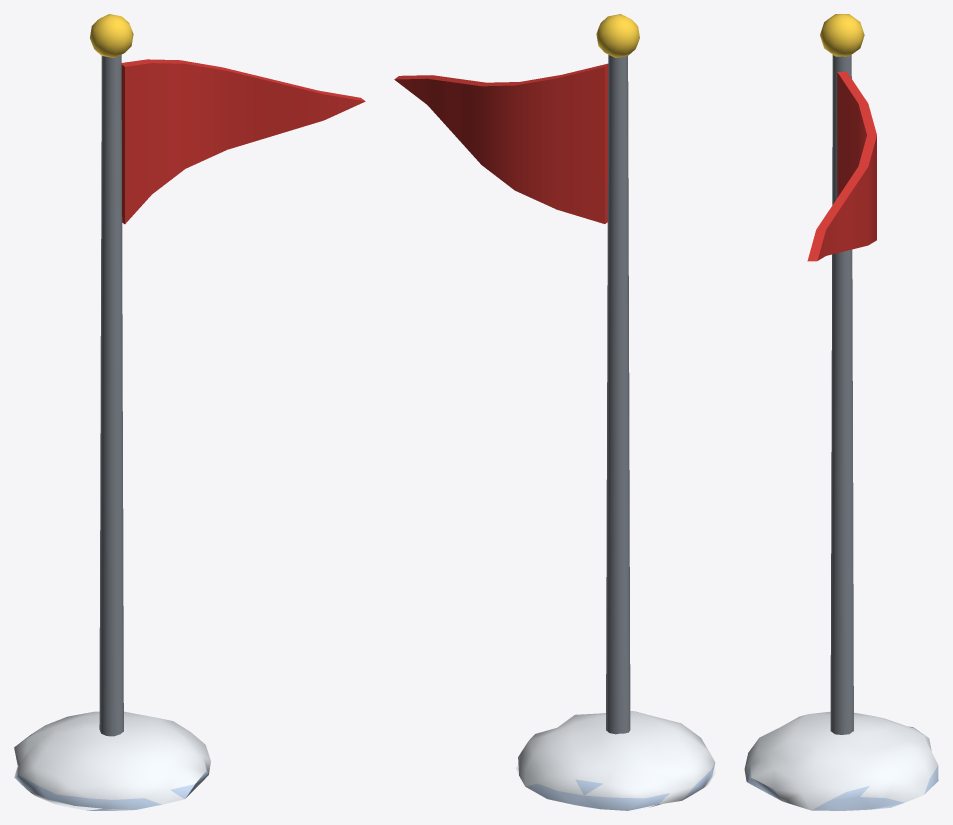
The model's file is Flag.fbx.
The picture shows the model from 3 angles, left to right: view 1: azimuth 30°, elevation 25°; view 2: azimuth 150°, elevation 25°; view 3: azimuth 270°, elevation 25°; orthographic projection.
Parts seen in each view (by area): view 1: Flag; view 2: Flag; view 3: Flag.
Part boxes in pixels (x1,y1,x2,y2): Flag: (14,14,365,810); Flag: (394,14,715,810); Flag: (744,14,938,810).
Size of the model in its own units: 1.5 by 3.35 by 0.7806.
Materials: 1 (1 with a texture image).
